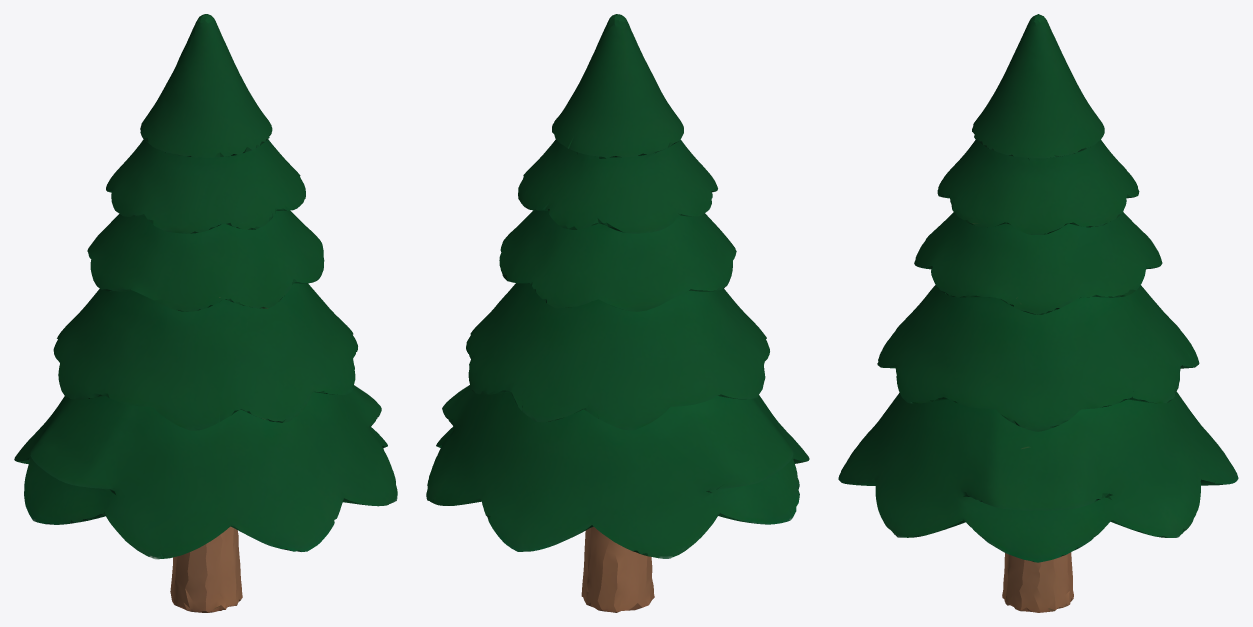
The model's file is tree_pine.glb.
3 views of the same model, side by side, from view 1: azimuth 30°, elevation 25°; view 2: azimuth 150°, elevation 25°; view 3: azimuth 270°, elevation 25° (orthographic).
Visible parts, largest first — view 1: tree_pine; view 2: tree_pine; view 3: tree_pine.
Part boxes in pixels (<box>): tree_pine: <box>14,14,397,612</box>; tree_pine: <box>426,14,809,612</box>; tree_pine: <box>838,14,1238,612</box>.
Size of the model in its own units: 0.6197 by 1 by 0.6225.
Materials: 1 (1 with a texture image).
